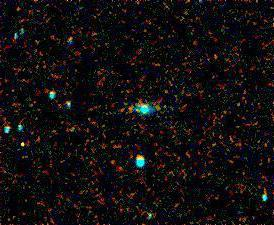star: (1, 124, 31, 154)
